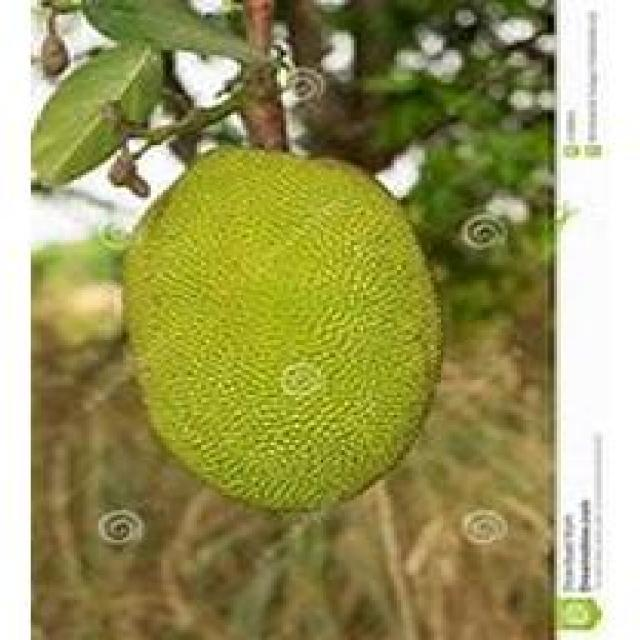fruit: (70, 148, 464, 512)
